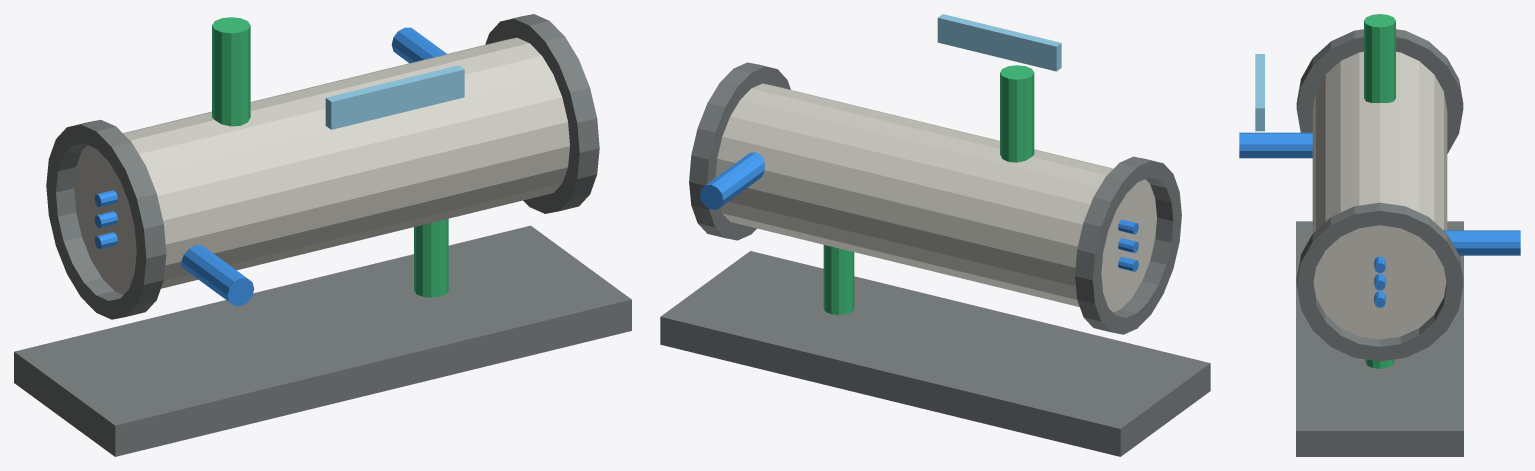
Rendered from condenser.fbx.
3 renders of one model, left to right at view 1: azimuth 30°, elevation 25°; view 2: azimuth 150°, elevation 25°; view 3: azimuth 270°, elevation 25°, orthographic. The views are drawn at different scales.
Visible parts, largest first — view 1: Condenser_Static/Base_Skid, Condenser_Static/Shell_Body, Condenser_Static/Left_Flange, Condenser_Static/Right_Flange, Condenser_UI_Target/Recovery_Indicator_Placeholder, Condenser_Interactive/Vapor_Inlet_Particle_Path, Condenser_Interactive/Condensate_Outlet_Flow, Condenser_Interactive/Cooling_Water_In_Blue_Flow, Condenser_Interactive/Cooling_Water_Out_Blue_Flow; view 2: Condenser_Static/Shell_Body, Condenser_Static/Base_Skid, Condenser_Static/Left_Flange, Condenser_Static/Right_Flange, Condenser_UI_Target/Recovery_Indicator_Placeholder, Condenser_Interactive/Vapor_Inlet_Particle_Path, Condenser_Interactive/Condensate_Outlet_Flow, Condenser_Interactive/Cooling_Water_Out_Blue_Flow; view 3: Condenser_Static/Shell_Body, Condenser_Static/Base_Skid, Condenser_Static/Right_Flange, Condenser_Static/Left_Flange, Condenser_Interactive/Vapor_Inlet_Particle_Path, Condenser_Interactive/Cooling_Water_In_Blue_Flow, Condenser_Interactive/Cooling_Water_Out_Blue_Flow, Condenser_UI_Target/Recovery_Indicator_Placeholder.
Part boxes in pixels (<box>): Condenser_Static/Base_Skid: <box>14,225,631,456</box>; Condenser_Static/Shell_Body: <box>74,37,569,294</box>; Condenser_Static/Left_Flange: <box>46,119,166,319</box>; Condenser_Static/Right_Flange: <box>485,14,599,213</box>; Condenser_UI_Target/Recovery_Indicator_Placeholder: <box>325,65,464,129</box>; Condenser_Interactive/Vapor_Inlet_Particle_Path: <box>212,17,250,126</box>; Condenser_Interactive/Condensate_Outlet_Flow: <box>414,218,448,297</box>; Condenser_Interactive/Cooling_Water_In_Blue_Flow: <box>181,245,254,305</box>; Condenser_Interactive/Cooling_Water_Out_Blue_Flow: <box>391,27,446,63</box>; Condenser_Static/Shell_Body: <box>715,83,1156,312</box>; Condenser_Static/Base_Skid: <box>660,251,1210,456</box>; Condenser_Static/Left_Flange: <box>1075,156,1181,334</box>; Condenser_Static/Right_Flange: <box>689,62,790,240</box>; Condenser_UI_Target/Recovery_Indicator_Placeholder: <box>937,14,1061,71</box>; Condenser_Interactive/Vapor_Inlet_Particle_Path: <box>1000,65,1034,162</box>; Condenser_Interactive/Condensate_Outlet_Flow: <box>823,245,854,314</box>; Condenser_Interactive/Cooling_Water_Out_Blue_Flow: <box>700,152,764,209</box>; Condenser_Static/Shell_Body: <box>1312,52,1447,339</box>; Condenser_Static/Base_Skid: <box>1296,221,1463,456</box>; Condenser_Static/Right_Flange: <box>1296,202,1463,361</box>; Condenser_Static/Left_Flange: <box>1296,29,1463,153</box>; Condenser_Interactive/Vapor_Inlet_Particle_Path: <box>1364,14,1395,102</box>; Condenser_Interactive/Cooling_Water_In_Blue_Flow: <box>1239,132,1312,158</box>; Condenser_Interactive/Cooling_Water_Out_Blue_Flow: <box>1444,230,1520,255</box>; Condenser_UI_Target/Recovery_Indicator_Placeholder: <box>1255,54,1264,131</box>.
Size of the model in its own units: 310 by 203 by 176.
